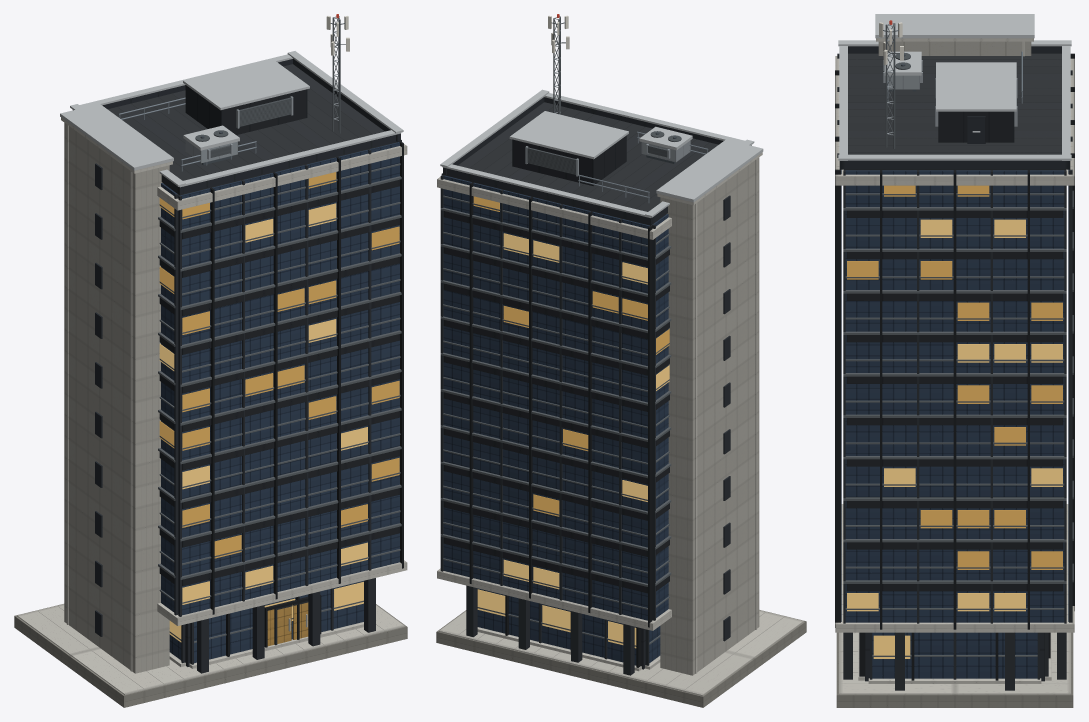
Rendered from el-2-built.glb.
3 renders of one model, left to right at view 1: azimuth 30°, elevation 25°; view 2: azimuth 150°, elevation 25°; view 3: azimuth 270°, elevation 25°, orthographic. The views are drawn at different scales.
Bounding box in the file's own units: 23.1 × 47.99 × 15.72.
Materials: 40 (27 with a texture image).
